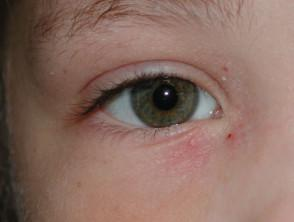Eczema: (221, 63, 234, 76), (187, 140, 201, 150), (223, 132, 236, 140)
